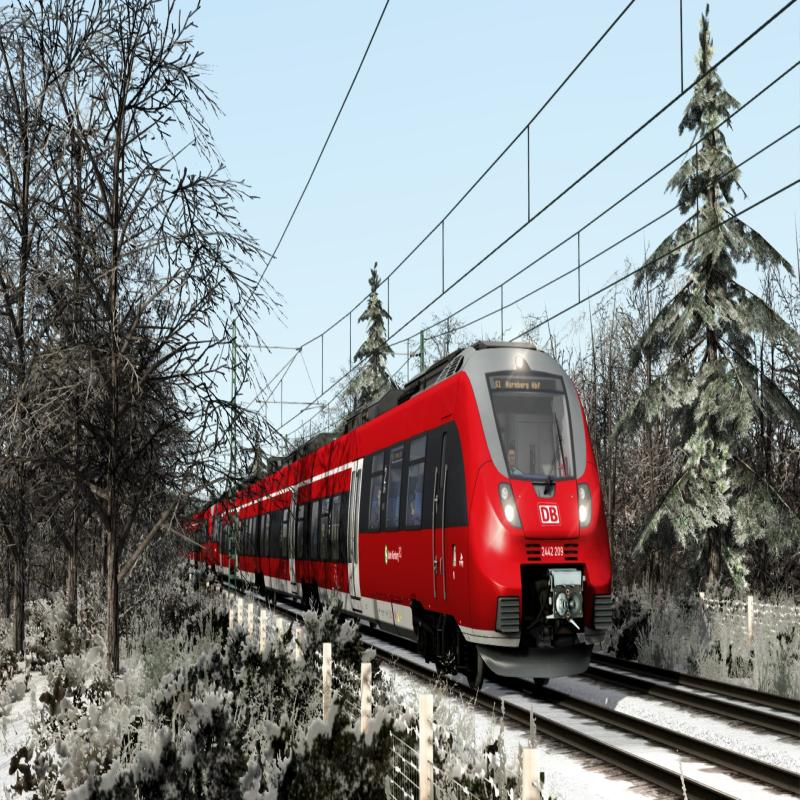train: (178, 336, 679, 654)
